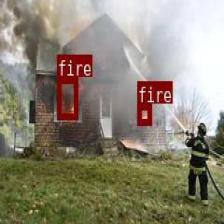fire: (56, 76, 77, 119), (136, 103, 150, 125)
